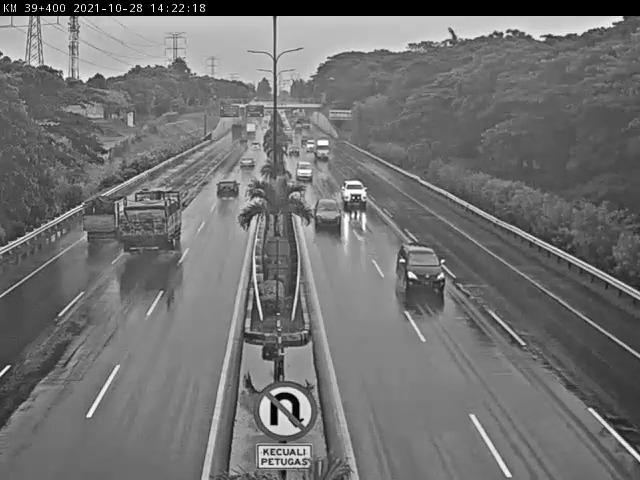car: (392, 243, 447, 292), (214, 176, 246, 203), (341, 176, 368, 204), (314, 197, 340, 224), (295, 161, 314, 184), (235, 155, 257, 174), (249, 140, 262, 155)
small truck: (120, 189, 189, 250), (72, 184, 121, 249)
